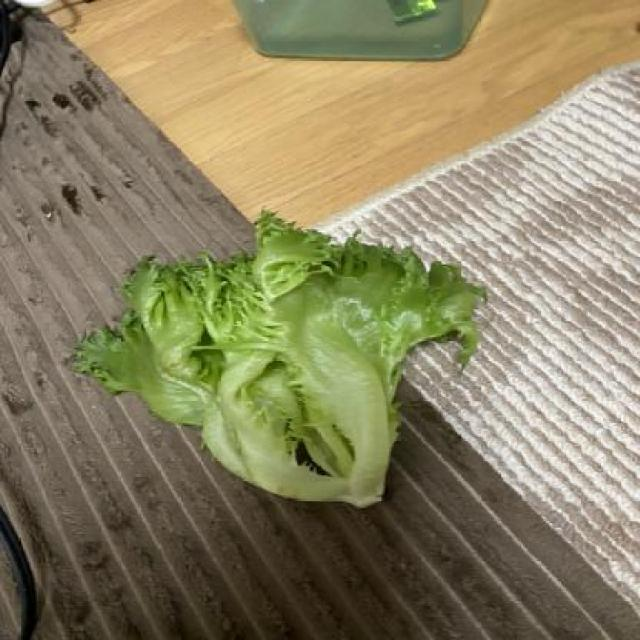Lettuce head: (59, 207, 487, 510)
